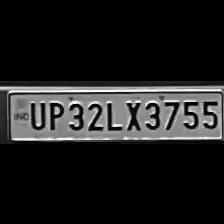2: (85, 98, 103, 130)
3: (64, 98, 84, 130), (140, 97, 160, 129)
5: (180, 96, 198, 130), (200, 96, 218, 128)
7: (162, 97, 178, 129)
L: (104, 98, 122, 130)
P: (44, 98, 64, 130)
U: (27, 98, 46, 130)
X: (122, 98, 142, 130)
